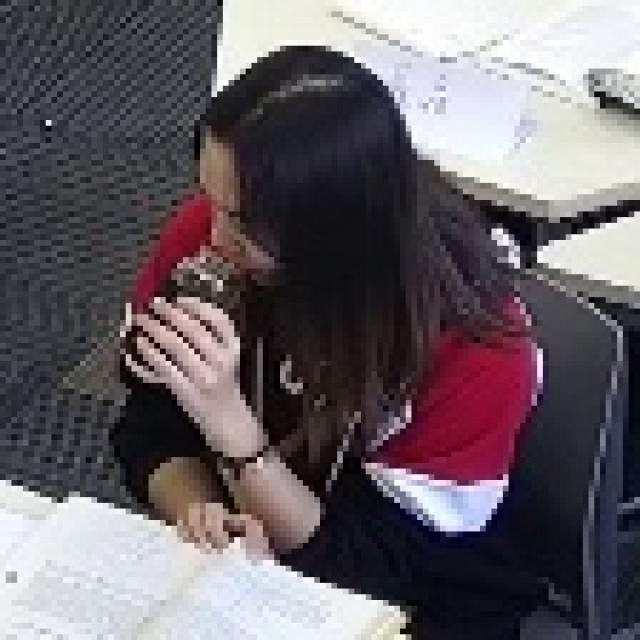drink: (109, 17, 635, 544)
